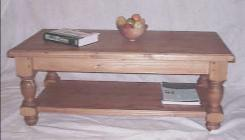Mesa: (5, 28, 234, 130)
